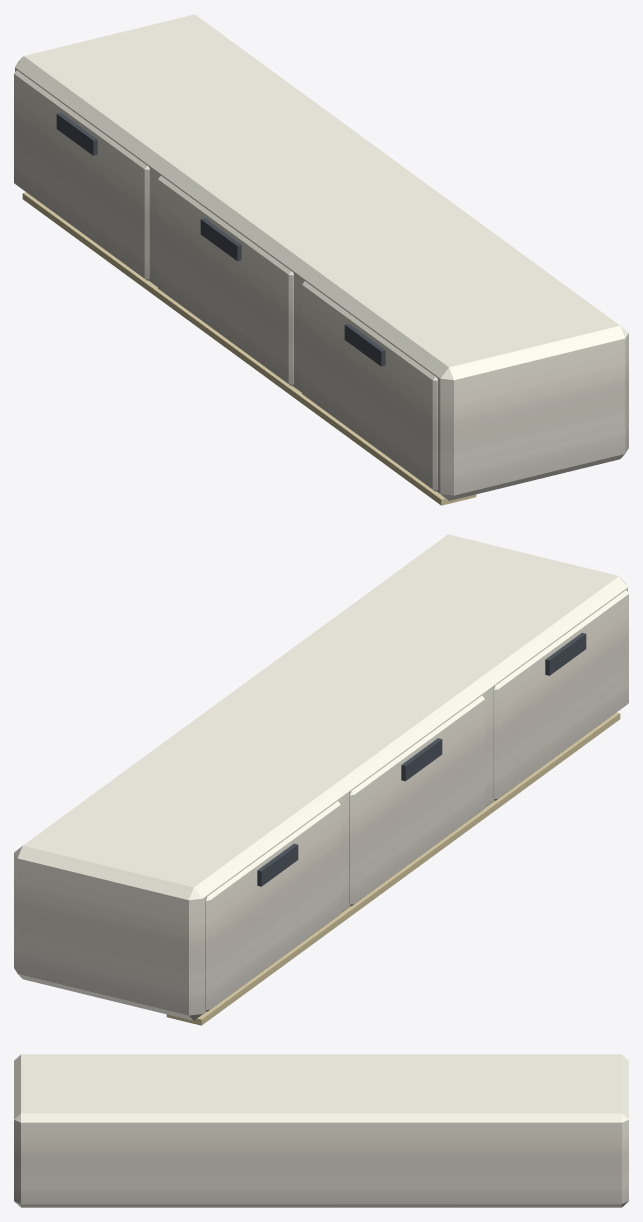
The model's file is Bagageiro.glb.
The picture shows the model from 3 angles, top to bottom: view 1: azimuth 30°, elevation 25°; view 2: azimuth 150°, elevation 25°; view 3: azimuth 270°, elevation 25°; orthographic projection. The views are drawn at different scales.
Parts seen in each view (by area): view 1: Bagageiro_Malha; view 2: Bagageiro_Malha; view 3: Bagageiro_Malha.
Part boxes in pixels (bbox=[...]): Bagageiro_Malha: bbox=[14, 14, 628, 505]; Bagageiro_Malha: bbox=[14, 534, 628, 1025]; Bagageiro_Malha: bbox=[14, 1054, 628, 1207].
Bounding box in the file's own units: 0.68 × 0.46 × 2.6.
1 material, 1 textured.
